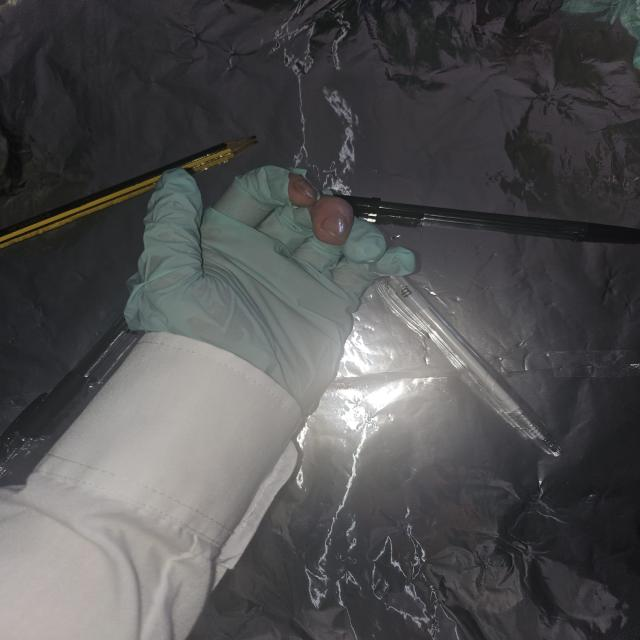gloves_damaged: (122, 164, 418, 422)
